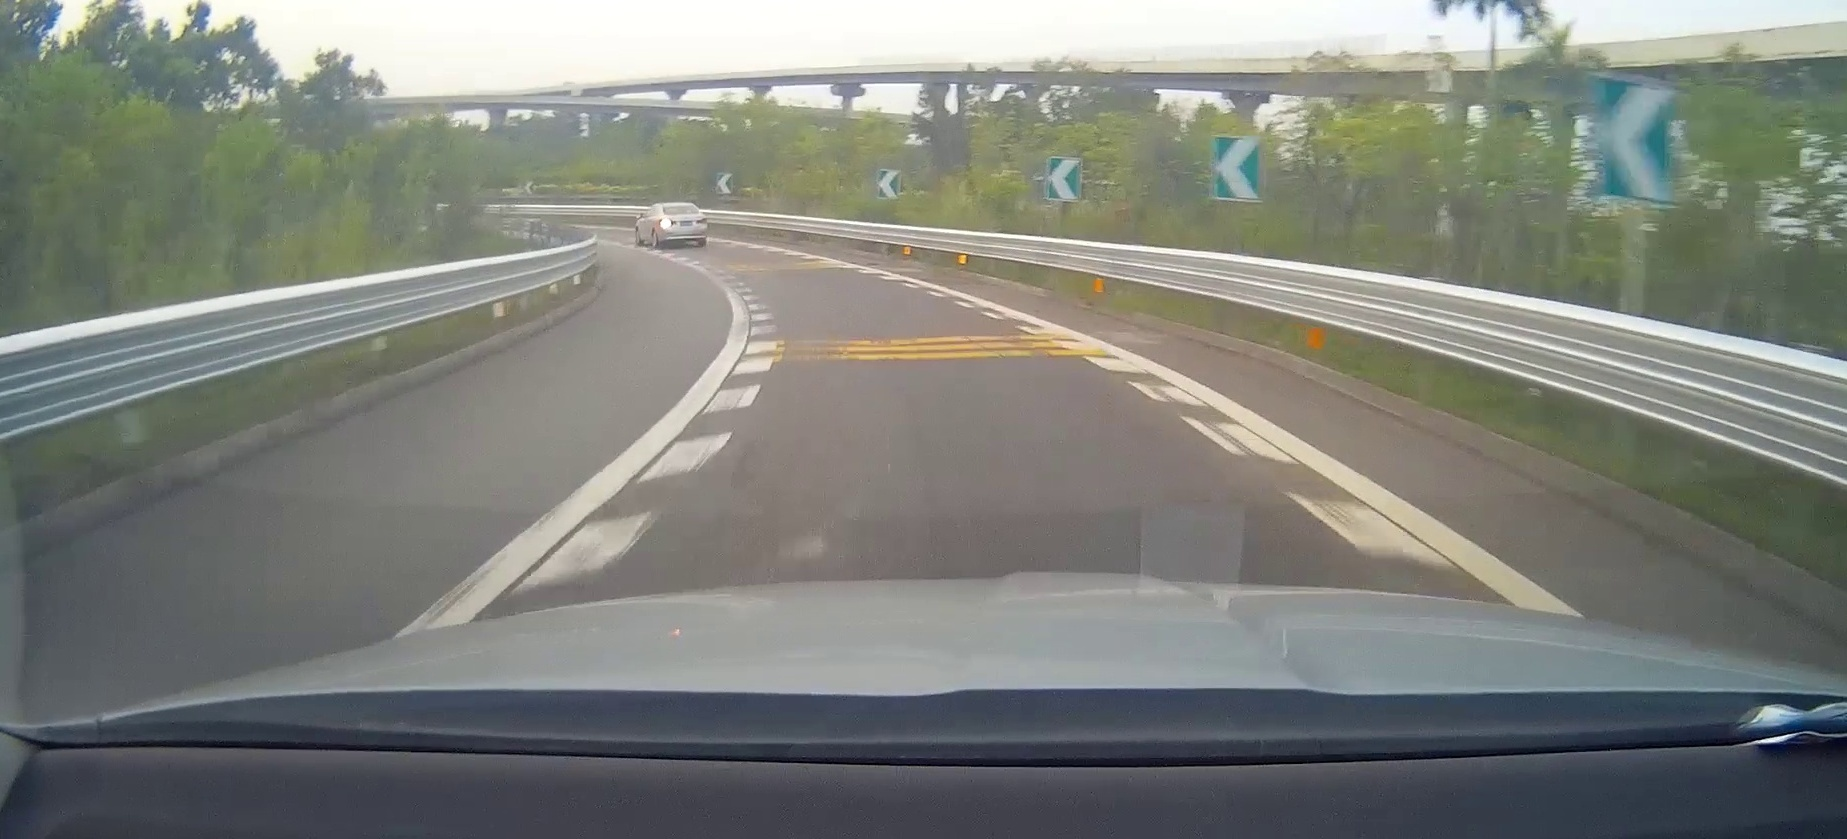L_light: (658, 219, 675, 226)
R_light: (695, 218, 707, 225)
T_light: (675, 205, 684, 209)
day-left: (656, 202, 707, 247)
